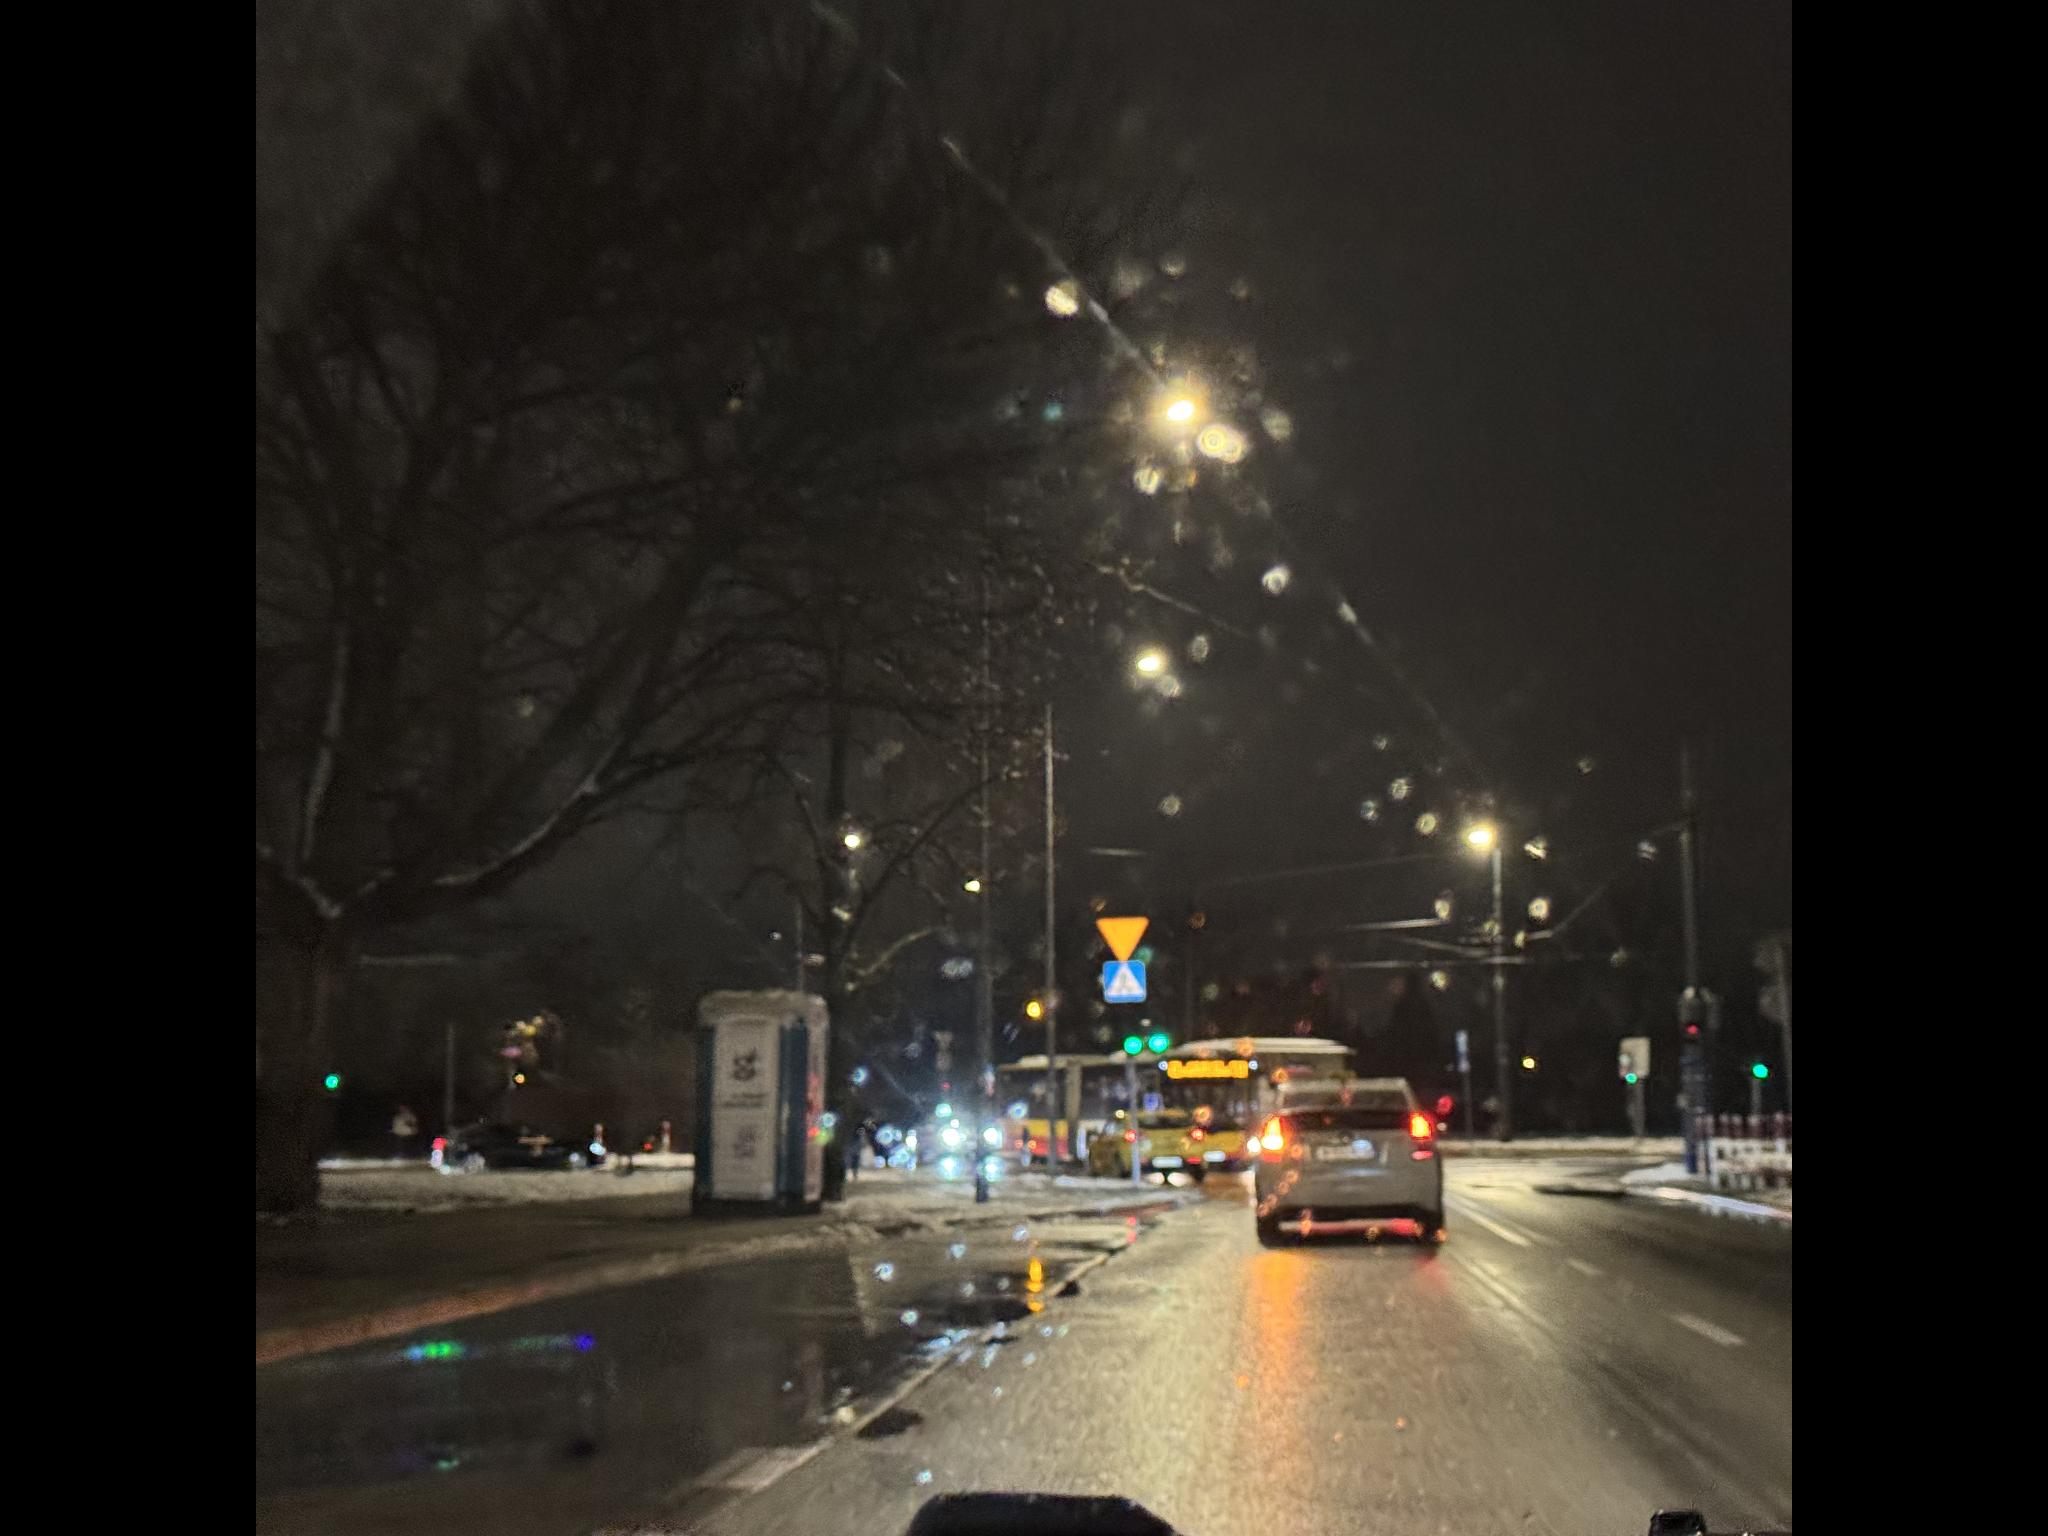information: (1472, 389, 1514, 432)
warning: (1427, 387, 1474, 444)
